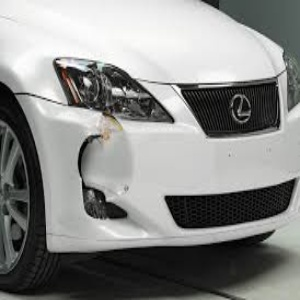bumper: (54, 118, 163, 246)
